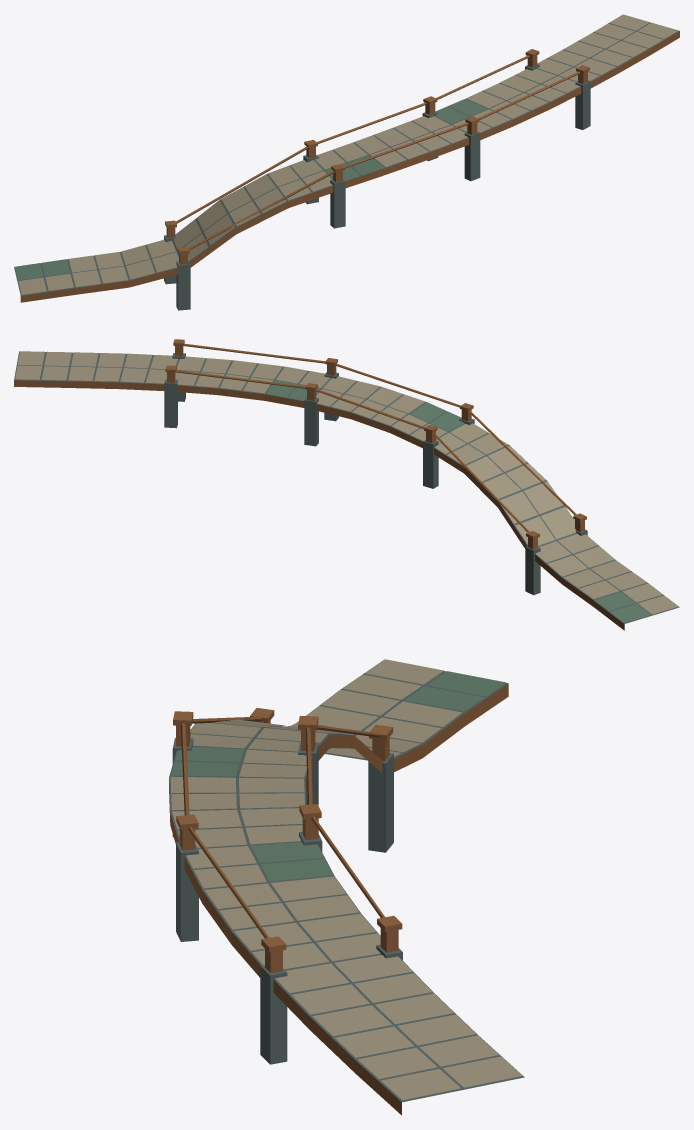
File: 2_pilgrims_cross_1.glb
3 views of the same model, one above another, from view 1: azimuth 30°, elevation 25°; view 2: azimuth 150°, elevation 25°; view 3: azimuth 270°, elevation 25° (orthographic). The views are drawn at different scales.
Visible parts, largest first — view 1: Detail_10_11, Detail_11_11, Deck_10_11-col, Deck_11_11-col; view 2: Detail_10_11, Detail_11_11, Deck_10_11-col, Deck_11_11-col; view 3: Detail_10_11, Detail_11_11, Deck_10_11-col, Deck_11_11-col.
Part boxes in pixels (bbox=[...]): Detail_10_11: bbox=[15, 49, 581, 310]; Detail_11_11: bbox=[548, 14, 679, 129]; Deck_10_11-col: bbox=[14, 58, 617, 295]; Deck_11_11-col: bbox=[562, 22, 679, 67]; Detail_10_11: bbox=[119, 343, 678, 630]; Detail_11_11: bbox=[14, 339, 185, 401]; Deck_10_11-col: bbox=[119, 354, 679, 623]; Deck_11_11-col: bbox=[14, 351, 126, 382]; Detail_10_11: bbox=[169, 659, 508, 981]; Detail_11_11: bbox=[260, 924, 522, 1115]; Deck_10_11-col: bbox=[169, 661, 507, 1016]; Deck_11_11-col: bbox=[310, 994, 524, 1102].
Size of the model in its own units: 27.78 by 5.59 by 6.52.
